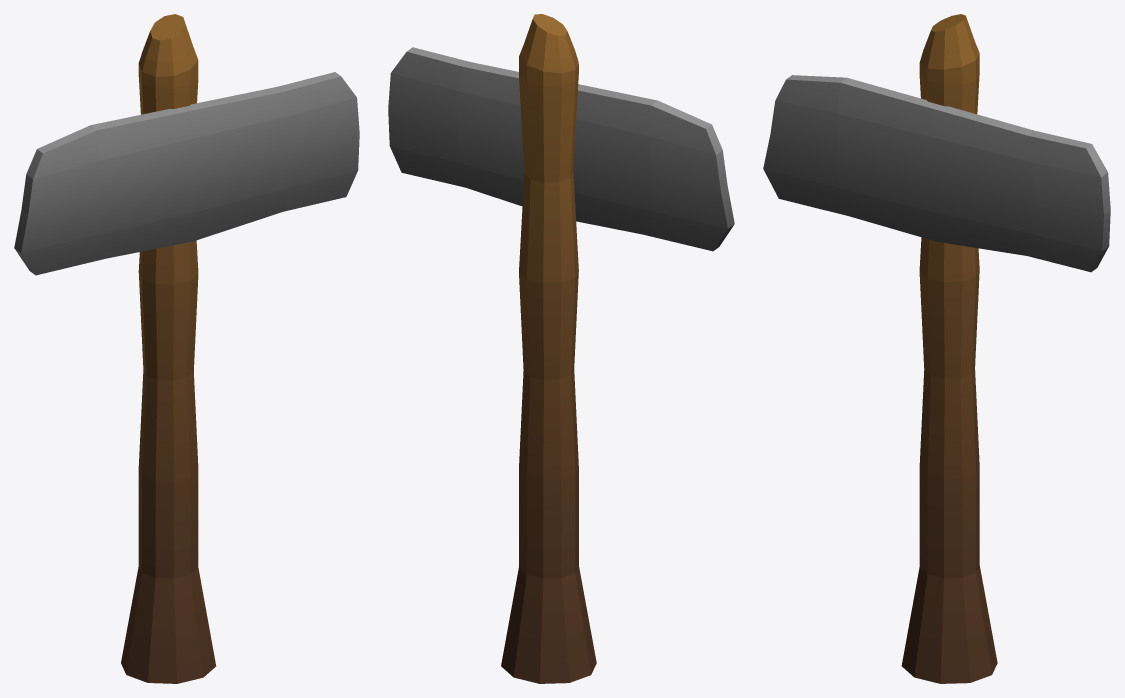
File: CartelPequeño_elementosDecorativos_T.fbx
The picture shows the model from 3 angles, left to right: view 1: azimuth 30°, elevation 25°; view 2: azimuth 150°, elevation 25°; view 3: azimuth 330°, elevation 25°; orthographic projection.
Parts seen in each view (by area): view 1: Palmera; view 2: Palmera; view 3: Palmera.
Boxes of the visible parts, x1,y1,x2,y2 form: Palmera: (14,14,359,683); Palmera: (388,14,734,683); Palmera: (763,14,1110,683).
Size of the model in its own units: 56.64 by 103 by 12.71.
